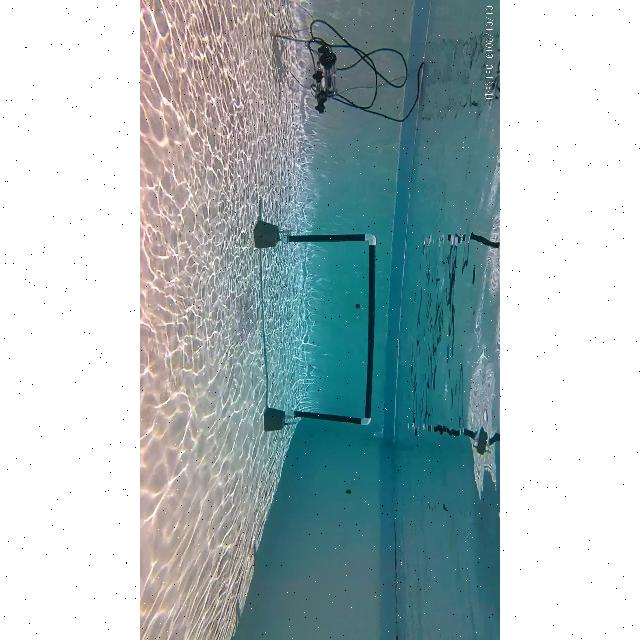prequal gate: (282, 234, 376, 426)
prequal gate leg l: (254, 224, 376, 253)
prequal gate leg r: (264, 403, 374, 432)
